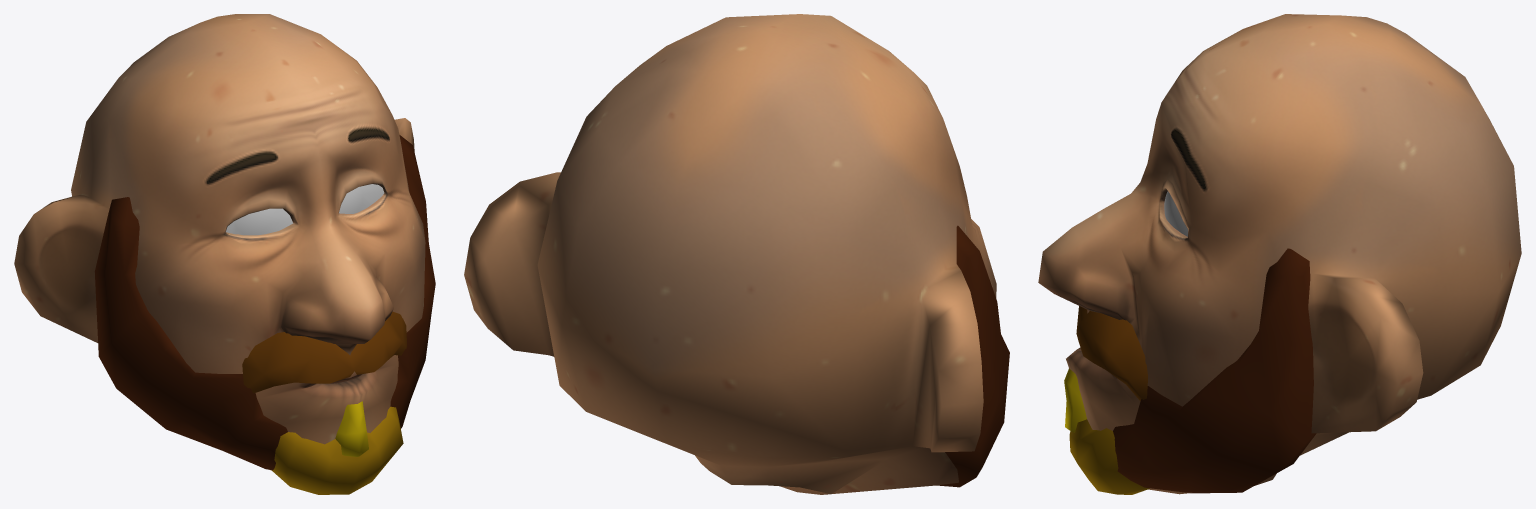
The model's file is E_sitpose03.fbx.
3 views of the same model, side by side, from view 1: azimuth 30°, elevation 25°; view 2: azimuth 150°, elevation 25°; view 3: azimuth 270°, elevation 25° (orthographic). The views are drawn at different scales.
Visible parts, largest first — view 1: HEAD, BEARD; view 2: HEAD, BEARD; view 3: HEAD, BEARD.
Part boxes in pixels (x1,y1,x2,y2): HEAD: (14,14,425,470); BEARD: (94,135,435,494); HEAD: (464,14,996,494); BEARD: (936,225,1009,487); HEAD: (1038,14,1521,494); BEARD: (1064,248,1316,494).
Size of the model in its own units: 27.45 by 26.17 by 24.9.
